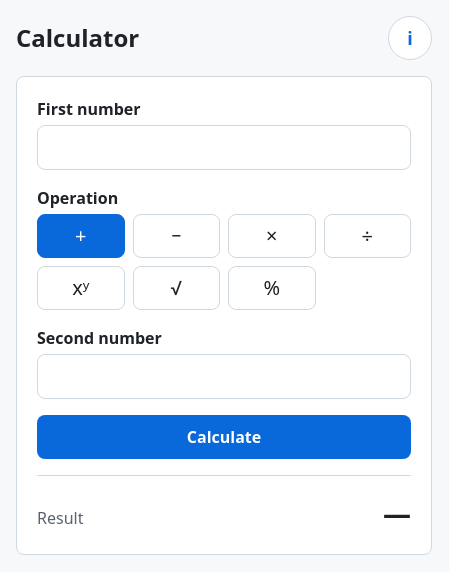
Scenario: Calculator › sends the parsed operands and shows the formatted result
Type "0.1" into the field labelled "First number" at coordinates (224, 148), box [37,125,411,170]
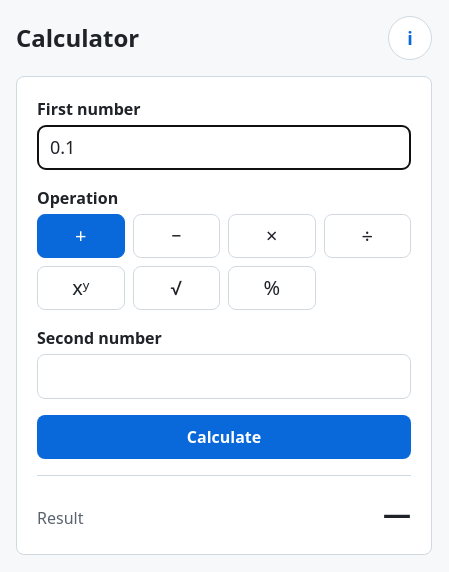
Click the radio button named "Add" at coordinates (81, 236), box [37,214,124,258]
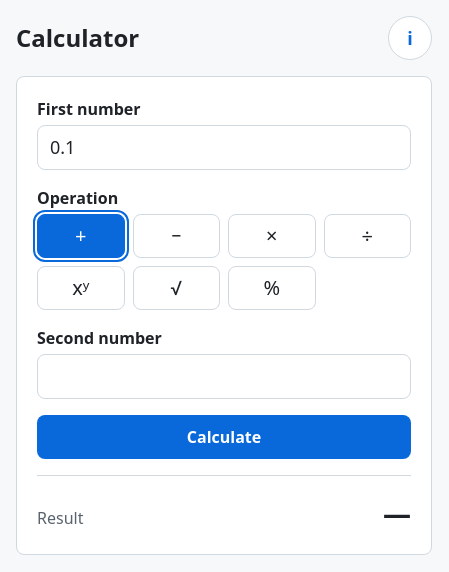
Type "0.2" into the field labelled "Second number" at coordinates (224, 376), box [37,354,411,399]
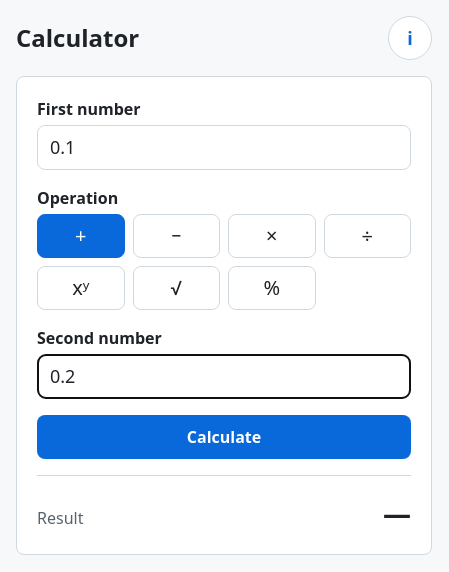
Click the button "Calculate" at coordinates (224, 437), box [37,415,411,459]
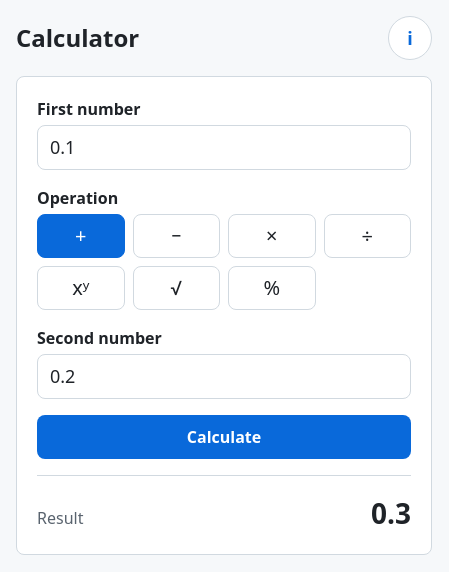
Now the text "0.3" is shown, box [371,492,411,534]
